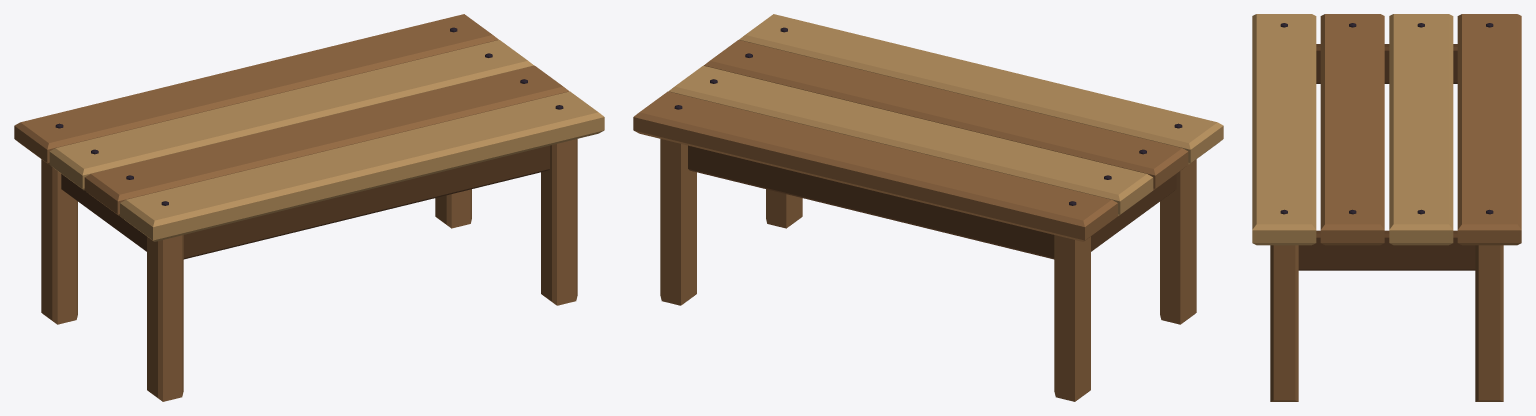
Rendered from Table_16.glb.
3 renders of one model, left to right at view 1: azimuth 30°, elevation 25°; view 2: azimuth 150°, elevation 25°; view 3: azimuth 270°, elevation 25°, orthographic. The views are drawn at different scales.
Visible parts, largest first — view 1: Table_16; view 2: Table_16; view 3: Table_16.
Boxes of the visible parts, x1=… form: Table_16: x1=14, y1=14, x2=604, y2=401; Table_16: x1=633, y1=14, x2=1223, y2=401; Table_16: x1=1252, y1=14, x2=1521, y2=401.
Bounding box in the file's own units: 7.05 × 2.87 × 3.75.
